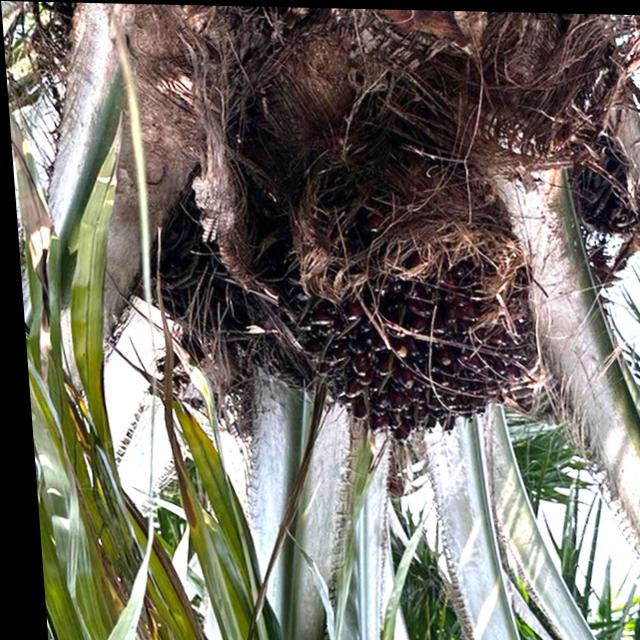ripe: (249, 188, 546, 454)
